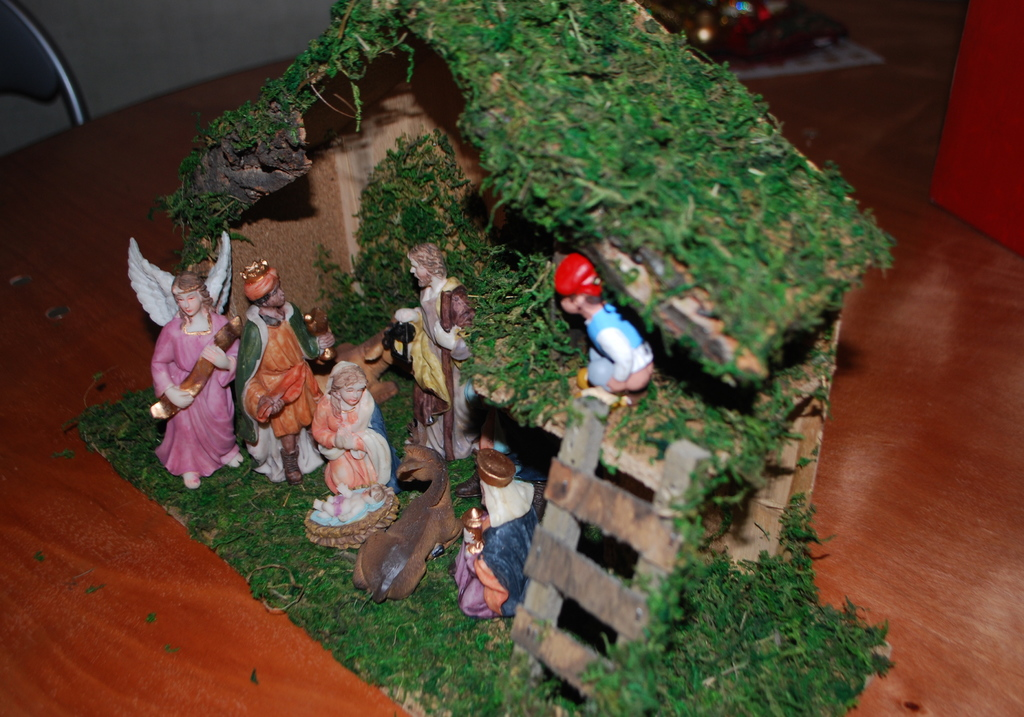Person: (127, 231, 654, 618)
